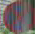No Stopping: (2, 0, 34, 31)
